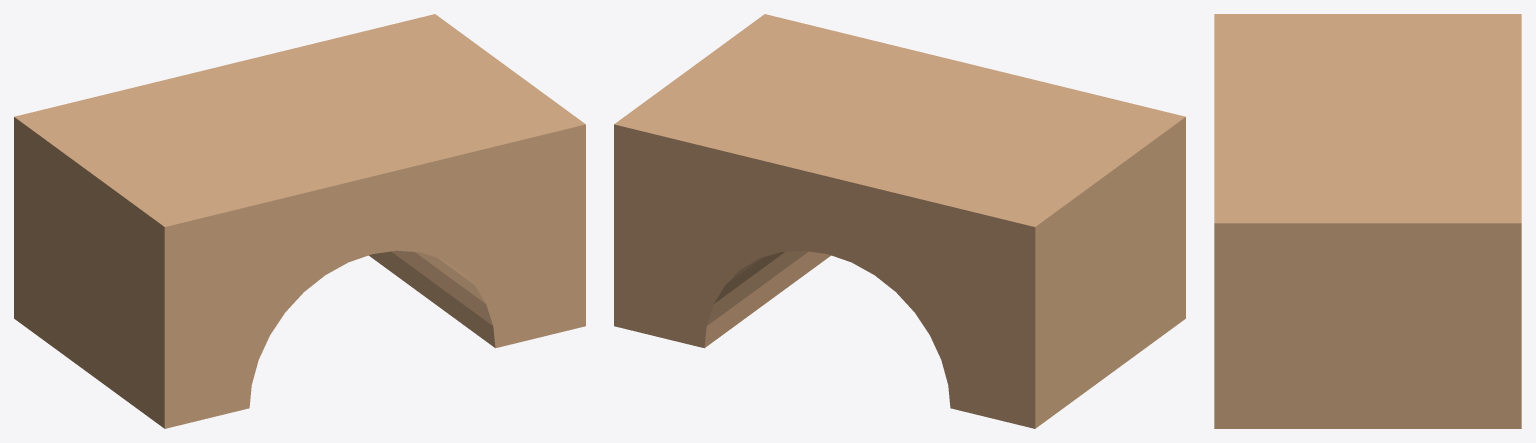
Rendered from Lvl 6 8.fbx.
The picture shows the model from 3 angles, left to right: view 1: azimuth 30°, elevation 25°; view 2: azimuth 150°, elevation 25°; view 3: azimuth 270°, elevation 25°; orthographic projection.
Parts seen in each view (by area): view 1: Cube.013; view 2: Cube.013; view 3: Cube.013.
Part boxes in pixels (x1,y1,x2,y2): Cube.013: [14, 14, 585, 428]; Cube.013: [614, 14, 1185, 428]; Cube.013: [1214, 14, 1521, 428].
Bounding box in the file's own units: 470 × 215 × 291.
